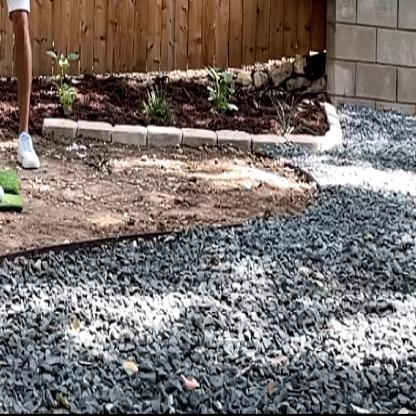ClubHead: (0, 182, 4, 205)
